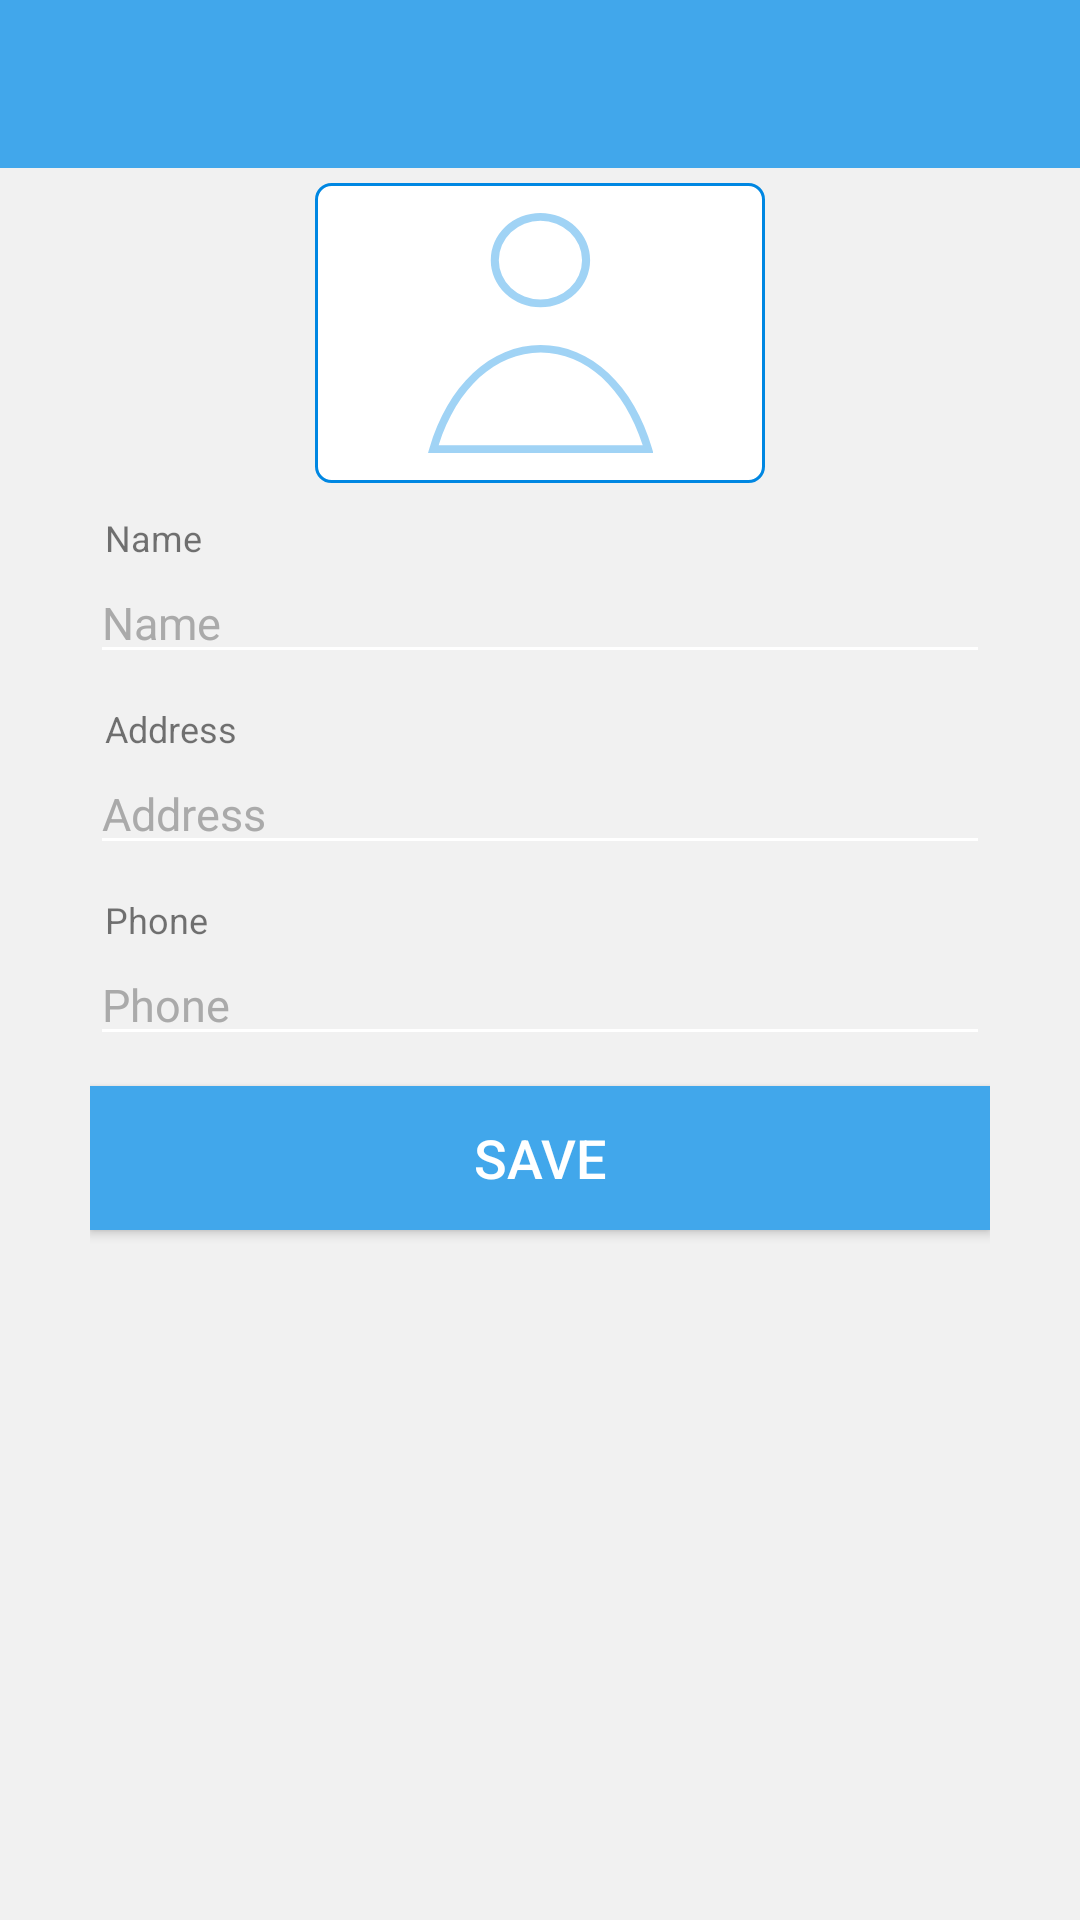

Where to tap for icons on this 1080px×1920px app screen, as (x=x, y=y):
customer: (x=540, y=333)
